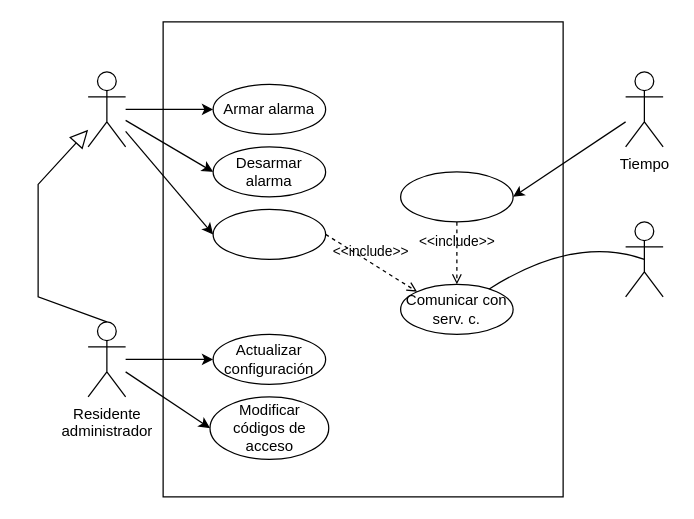
Some shapes in this 694 by 519 pixel diagram are drawn without their labels. Here are the shapes that lost their labels. From the top down, the centre of each, then its label:
At point (106, 109): "Residente estándar".
At point (456, 196): "Verificar sensores".
At point (269, 233): "Activar alarma silenciosa".
At point (643, 259): "Servidor central".
